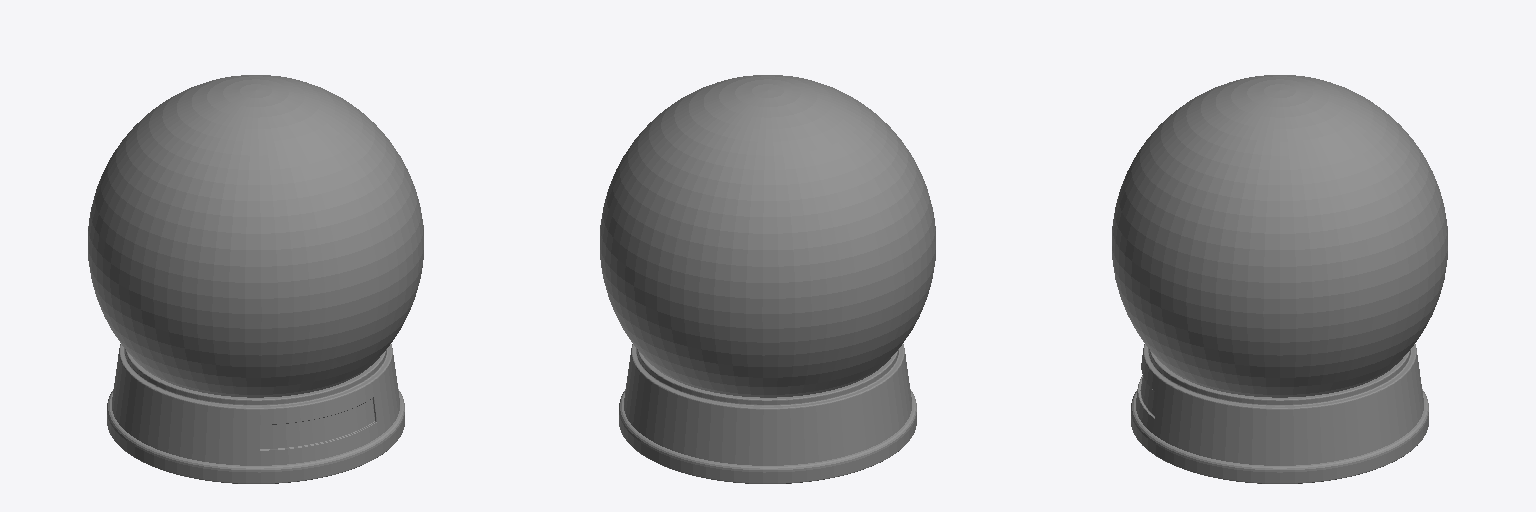
File: Snow_Globe.obj
The picture shows the model from 3 angles: view 1: azimuth 30°, elevation 25°; view 2: azimuth 150°, elevation 25°; view 3: azimuth 270°, elevation 25°; orthographic projection.
Visible parts, largest first — view 1: Snow_Globe; view 2: Snow_Globe; view 3: Snow_Globe.
Part boxes in pixels (x1,y1,x2,y2): Snow_Globe: (88,75,423,483); Snow_Globe: (600,75,935,483); Snow_Globe: (1112,75,1447,483).
Size of the model in its own units: 67.72 by 73.45 by 67.72.